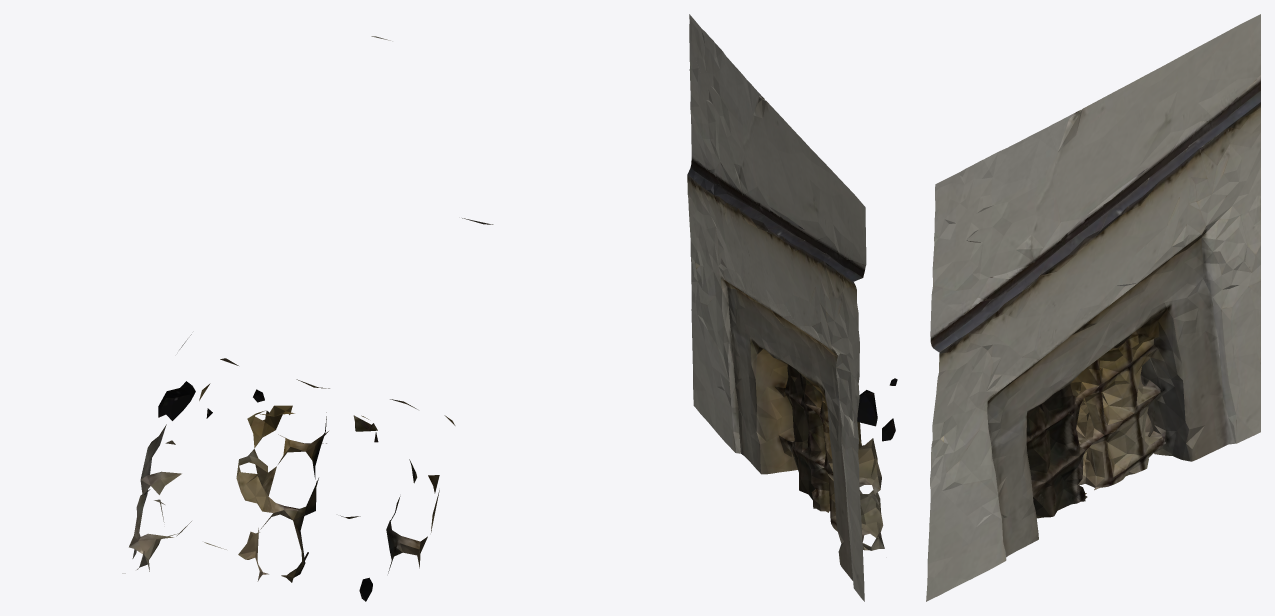
3 renders of one model, left to right at view 1: azimuth 30°, elevation 25°; view 2: azimuth 150°, elevation 25°; view 3: azimuth 270°, elevation 25°, orthographic. The views are drawn at different scales.
Size of the model in its own units: 1.47 by 1.67 by 1.22.
3 materials, 3 textured.
